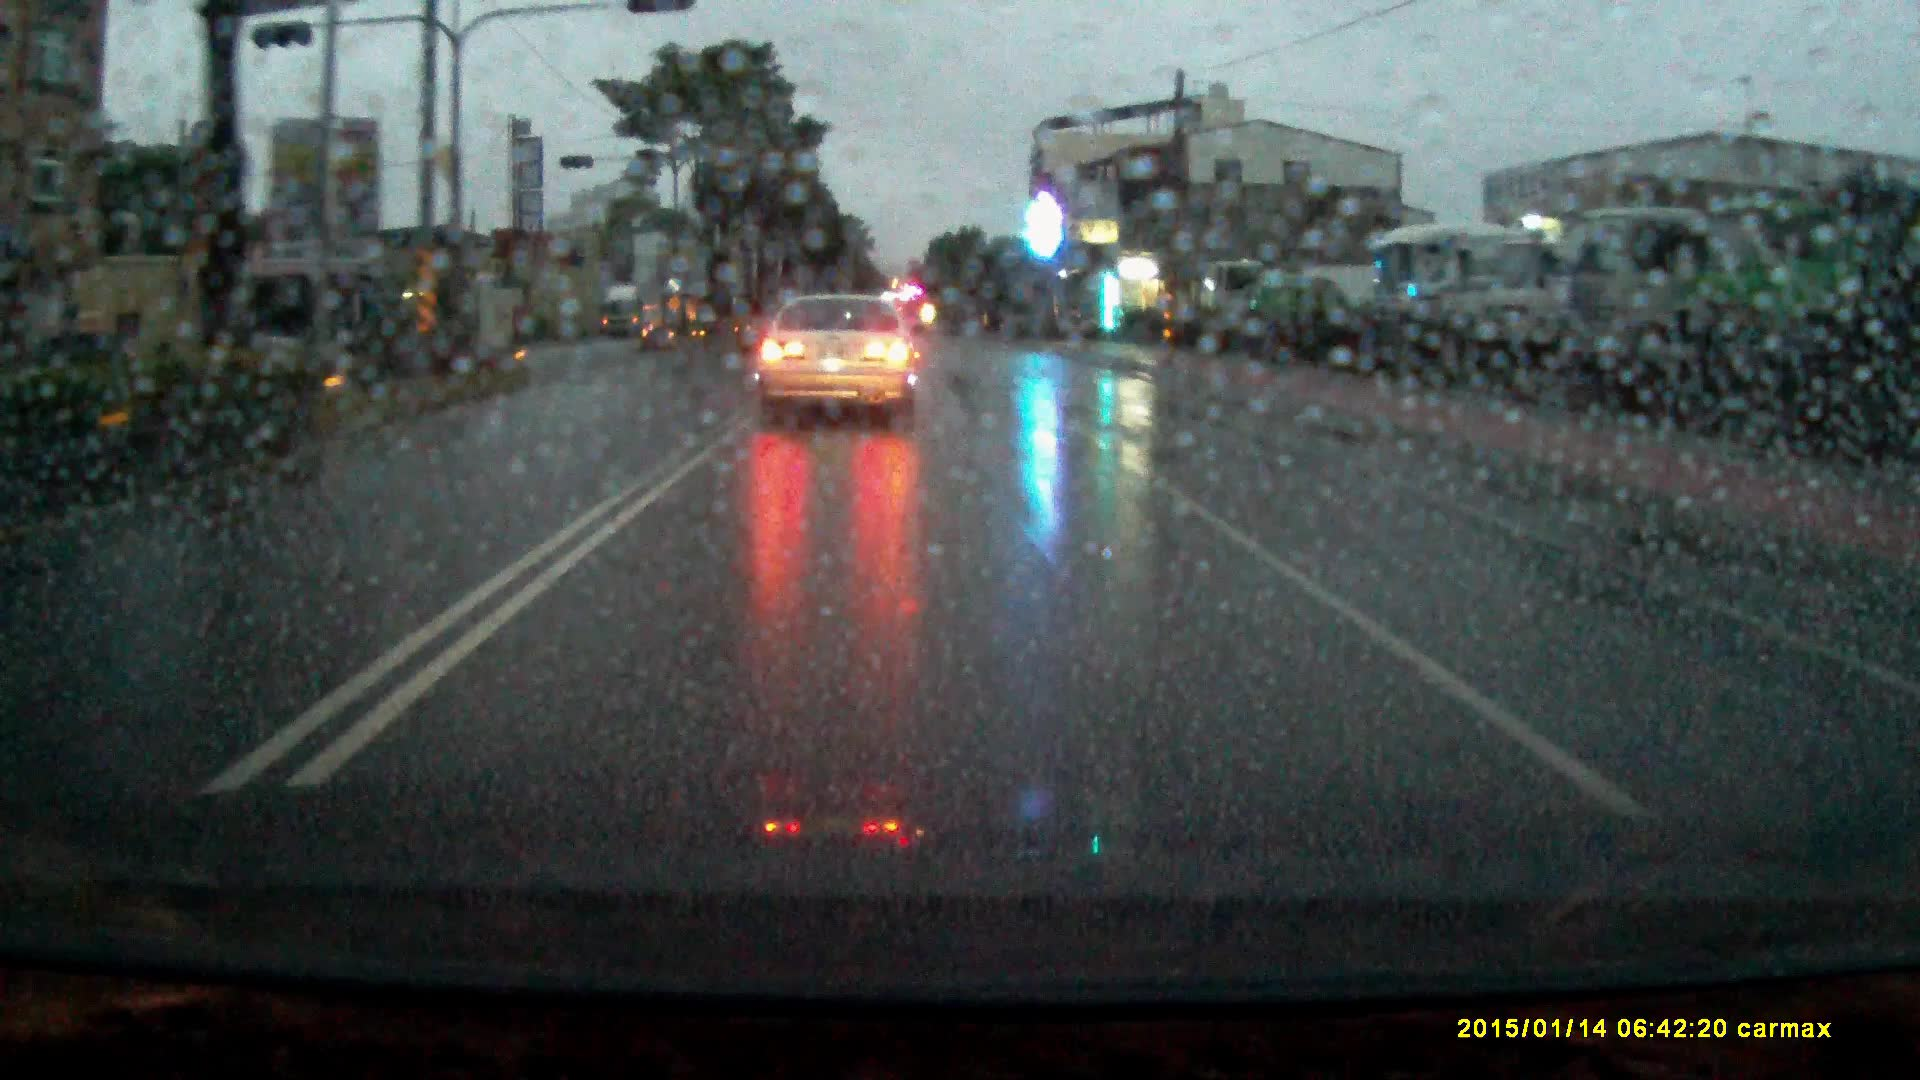vehicle: (1698, 193, 1853, 440), (1578, 202, 1714, 404), (756, 295, 923, 429), (1445, 225, 1577, 377), (1369, 229, 1465, 349), (1242, 266, 1387, 334), (1203, 260, 1269, 328), (603, 284, 665, 340)
